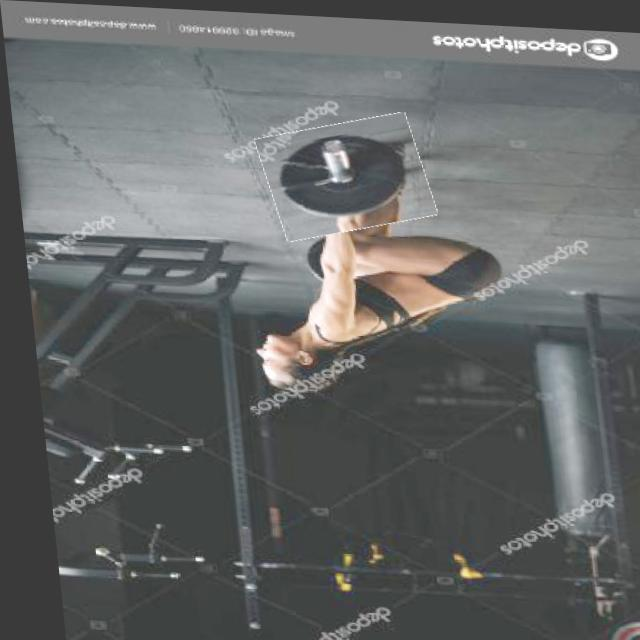barbell: (255, 111, 431, 238)
